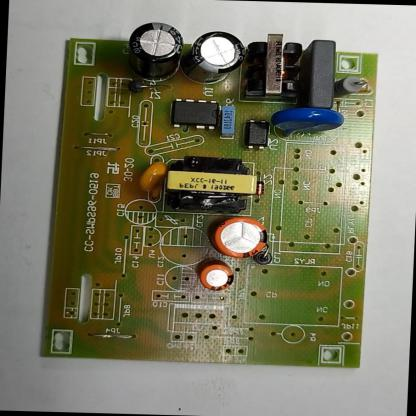Cap1: (208, 215, 273, 261)
Cap2: (196, 263, 240, 293)
Cap3: (186, 28, 248, 85)
Cap4: (122, 21, 186, 82)
MOSFET: (168, 98, 226, 134)
Mov: (266, 106, 350, 140)
Resistor: (332, 69, 369, 102)
Transformer: (165, 156, 260, 213), (245, 27, 306, 101)
